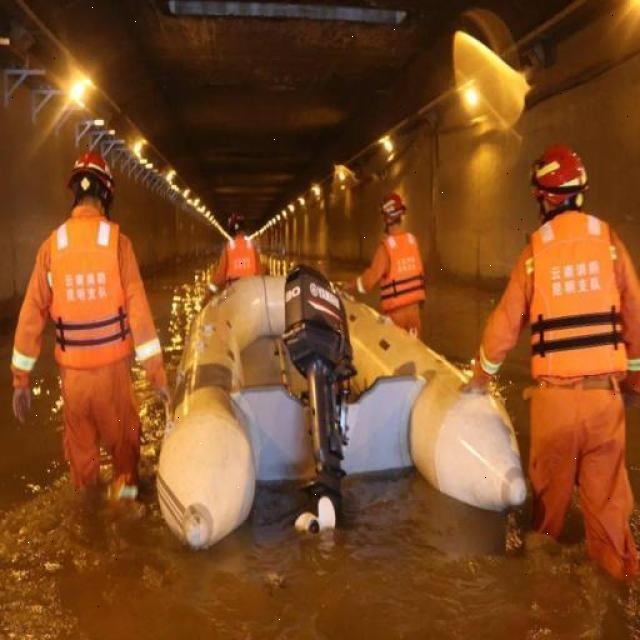rescuer: (455, 134, 640, 588), (8, 128, 177, 518), (344, 171, 432, 370), (196, 188, 278, 327)
